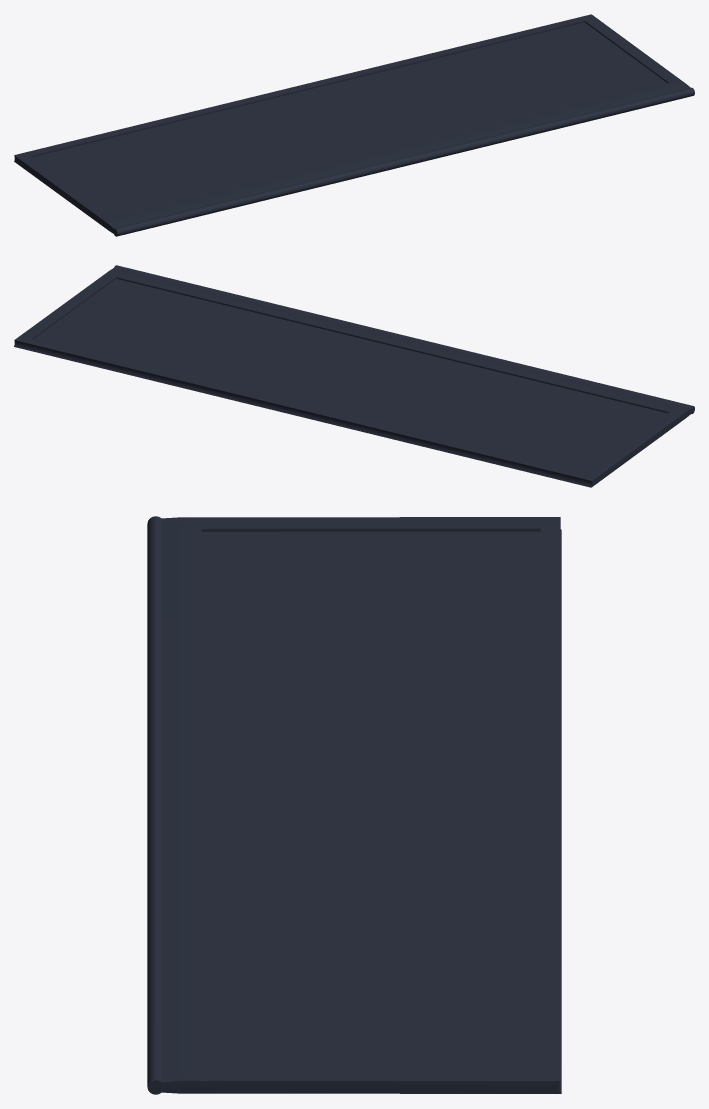
Rendered from Display_Lower_Part.fbx.
The picture shows the model from 3 angles, top to bottom: view 1: azimuth 30°, elevation 25°; view 2: azimuth 150°, elevation 25°; view 3: azimuth 270°, elevation 25°; orthographic projection. The views are drawn at different scales.
Visible parts, largest first — view 1: Display_Lower_Part; view 2: Display_Lower_Part; view 3: Display_Lower_Part.
Boxes of the visible parts, x1,y1,x2,y2 form: Display_Lower_Part: (14,14,694,236); Display_Lower_Part: (14,265,694,487); Display_Lower_Part: (147,516,561,1094).
Size of the model in its own units: 40 by 0.5045 by 12.42.
